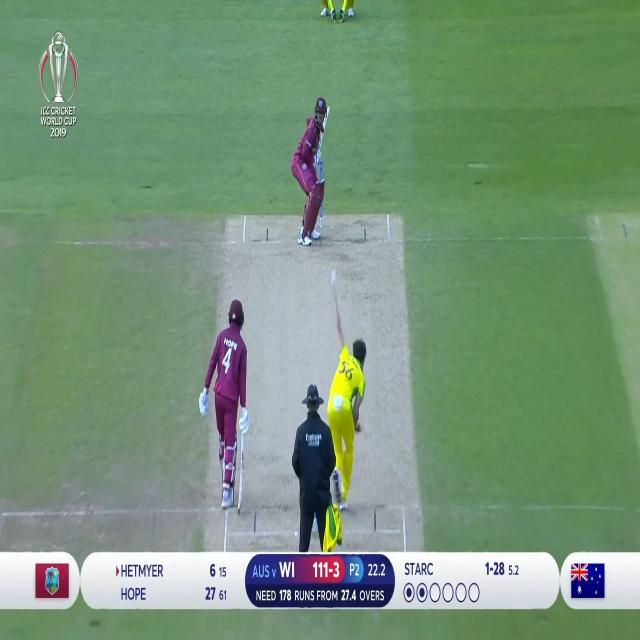ball: (330, 270, 340, 286)
